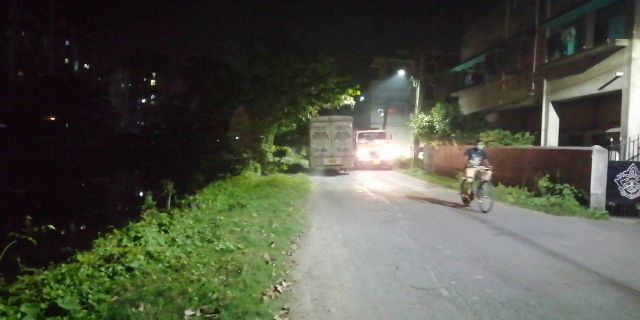Cycle: (455, 139, 502, 218)
Minitruck: (297, 112, 361, 177)
